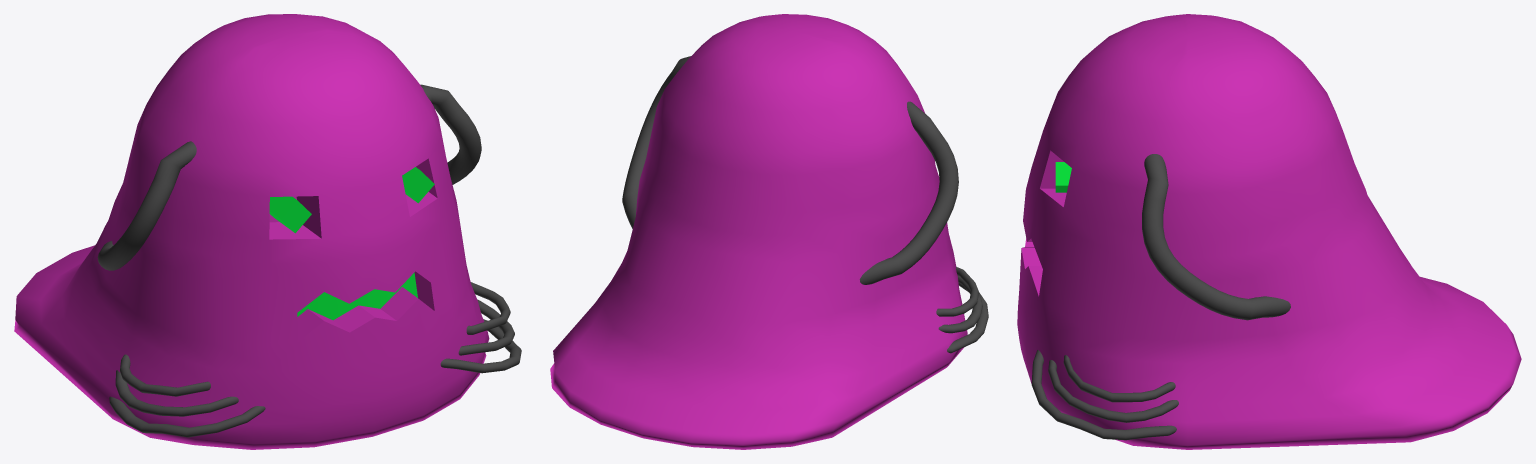
File: Enemy01_Model.fbx
The picture shows the model from 3 angles, left to right: view 1: azimuth 30°, elevation 25°; view 2: azimuth 150°, elevation 25°; view 3: azimuth 270°, elevation 25°; orthographic projection. The views are drawn at different scales.
Visible parts, largest first — view 1: pSphere1, sweep5, sweep4, sweep3, sweep2, sweep8, sweep1, pCube3, sweep7, sweep6, pCube2; view 2: pSphere1, sweep5, sweep4, sweep3, sweep1, sweep2; view 3: pSphere1, sweep4, sweep8, sweep7, sweep6.
Part boxes in pixels (left/top/right/bottom): pSphere1: left=14, top=14, right=489, bottom=449; sweep5: left=97, top=141, right=196, bottom=270; sweep4: left=420, top=84, right=481, bottom=184; sweep3: left=109, top=396, right=265, bottom=437; sweep2: left=115, top=370, right=238, bottom=416; sweep8: left=440, top=319, right=521, bottom=373; sweep1: left=120, top=354, right=210, bottom=396; pCube3: left=269, top=196, right=311, bottom=233; sweep7: left=458, top=299, right=514, bottom=355; sweep6: left=466, top=282, right=510, bottom=334; pCube2: left=402, top=167, right=434, bottom=203; pSphere1: left=550, top=14, right=967, bottom=449; sweep5: left=859, top=101, right=958, bottom=284; sweep4: left=622, top=56, right=690, bottom=228; sweep3: left=947, top=283, right=988, bottom=353; sweep1: left=936, top=266, right=978, bottom=316; sweep2: left=938, top=276, right=982, bottom=333; pSphere1: left=1017, top=14, right=1521, bottom=449; sweep4: left=1142, top=154, right=1290, bottom=320; sweep8: left=1031, top=350, right=1176, bottom=440; sweep7: left=1048, top=360, right=1178, bottom=422; sweep6: left=1063, top=355, right=1175, bottom=402.
Bounding box in the file's own units: 5.03 × 4.4 × 6.04.
